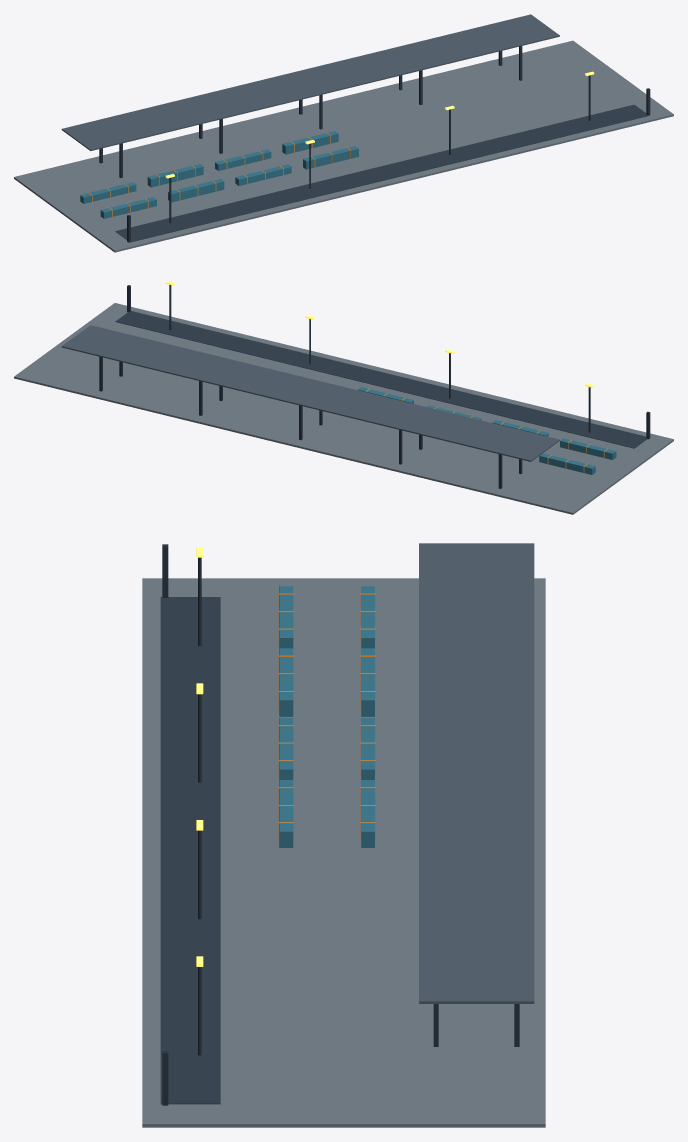
File: steel-stockyard-low.glb
3 views of the same model, one above another, from view 1: azimuth 30°, elevation 25°; view 2: azimuth 150°, elevation 25°; view 3: azimuth 270°, elevation 25° (orthographic). The views are drawn at different scales.
Parts seen in each view (by area): view 1: stockyard_slab, open_shed_roof, stockyard_lane, steel_bundle.001, steel_bundle.003, steel_bundle.007, steel_bundle.005, steel_bundle.004, steel_bundle, steel_bundle.002, steel_bundle.006; view 2: stockyard_slab, open_shed_roof, stockyard_lane, steel_bundle, steel_bundle.004; view 3: stockyard_slab, open_shed_roof, stockyard_lane, steel_bundle.001, steel_bundle.003, steel_bundle.005, steel_bundle.007, steel_bundle, steel_bundle.002, steel_bundle.004, steel_bundle.006.
Boxes of the visible parts, x1=… form: stockyard_slab: x1=14, y1=40, x2=673, y2=252; open_shed_roof: x1=61, y1=14, x2=559, y2=150; stockyard_lane: x1=115, y1=104, x2=649, y2=242; steel_bundle.001: x1=168, y1=179, x2=224, y2=202; steel_bundle.003: x1=303, y1=146, x2=358, y2=169; steel_bundle.007: x1=282, y1=131, x2=338, y2=154; steel_bundle.005: x1=147, y1=164, x2=203, y2=187; steel_bundle.004: x1=80, y1=182, x2=136, y2=203; steel_bundle: x1=100, y1=197, x2=156, y2=218; steel_bundle.002: x1=235, y1=164, x2=291, y2=185; steel_bundle.006: x1=215, y1=149, x2=271, y2=170; stockyard_slab: x1=14, y1=303, x2=673, y2=514; open_shed_roof: x1=61, y1=325, x2=559, y2=461; stockyard_lane: x1=115, y1=311, x2=647, y2=448; steel_bundle: x1=560, y1=438, x2=616, y2=459; steel_bundle.004: x1=539, y1=453, x2=595, y2=474; stockyard_slab: x1=142, y1=578, x2=545, y2=1127; open_shed_roof: x1=419, y1=543, x2=534, y2=1003; stockyard_lane: x1=160, y1=597, x2=220, y2=1104; steel_bundle.001: x1=279, y1=648, x2=293, y2=716; steel_bundle.003: x1=279, y1=780, x2=293, y2=847; steel_bundle.005: x1=361, y1=648, x2=374, y2=716; steel_bundle.007: x1=361, y1=780, x2=374, y2=847; steel_bundle: x1=279, y1=586, x2=293, y2=648; steel_bundle.002: x1=279, y1=718, x2=293, y2=779; steel_bundle.004: x1=361, y1=586, x2=374, y2=648; steel_bundle.006: x1=361, y1=718, x2=374, y2=779.
Bounding box in the file's own units: 112 × 9.51 × 35.
